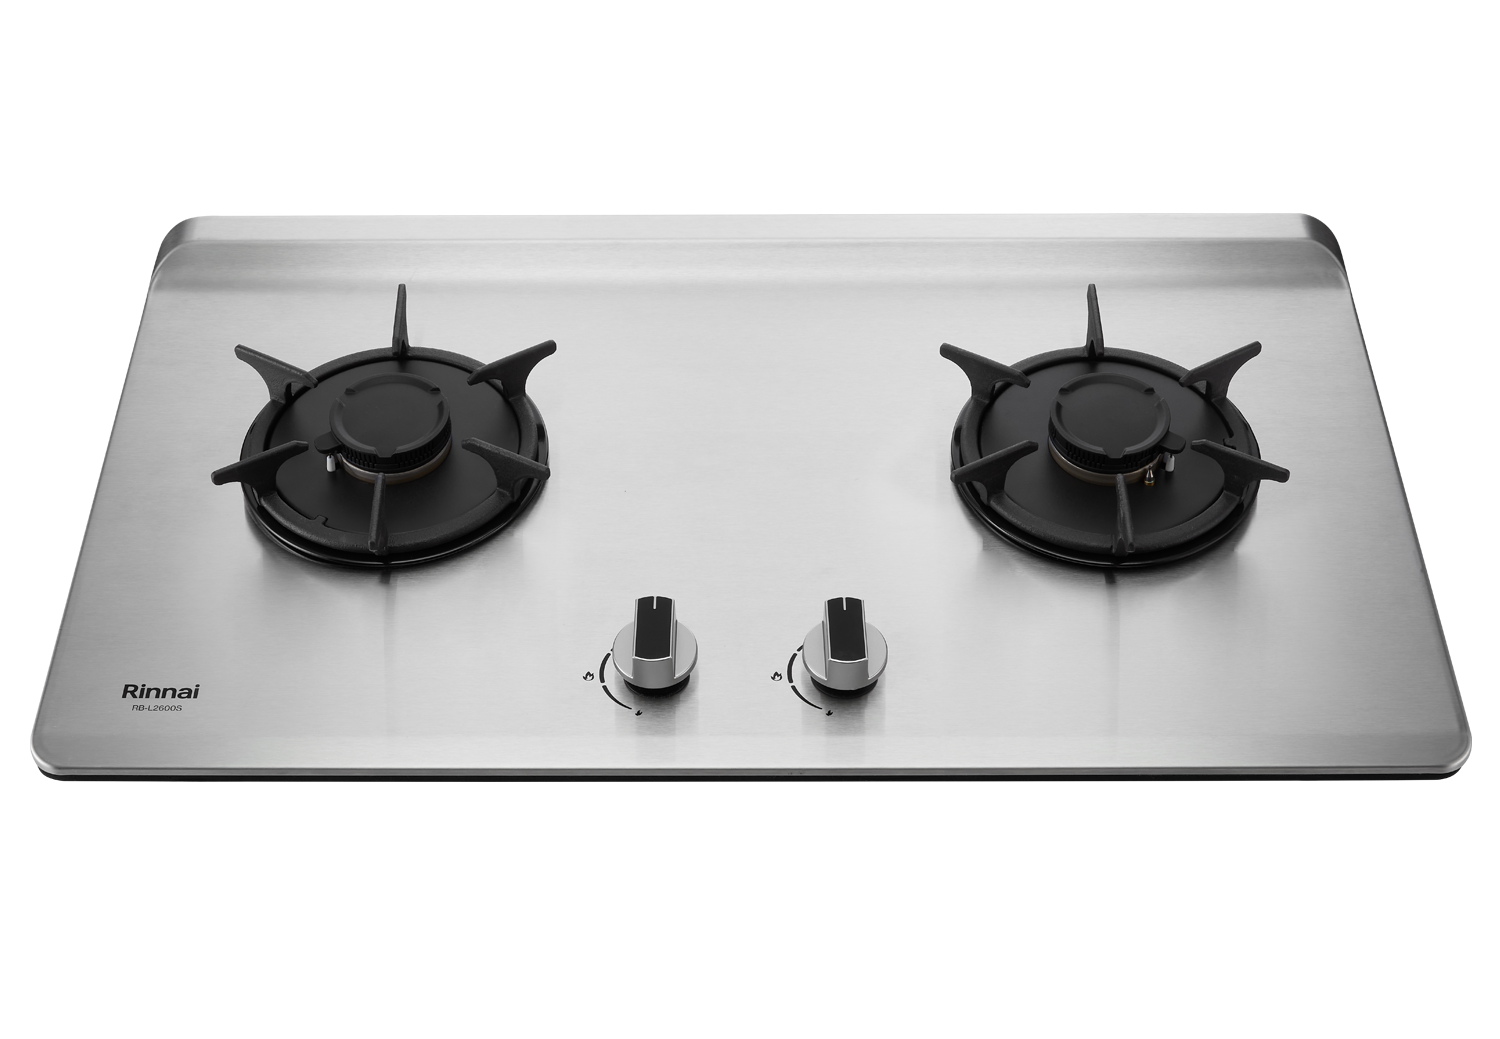gasoven: (26, 202, 1486, 805)
